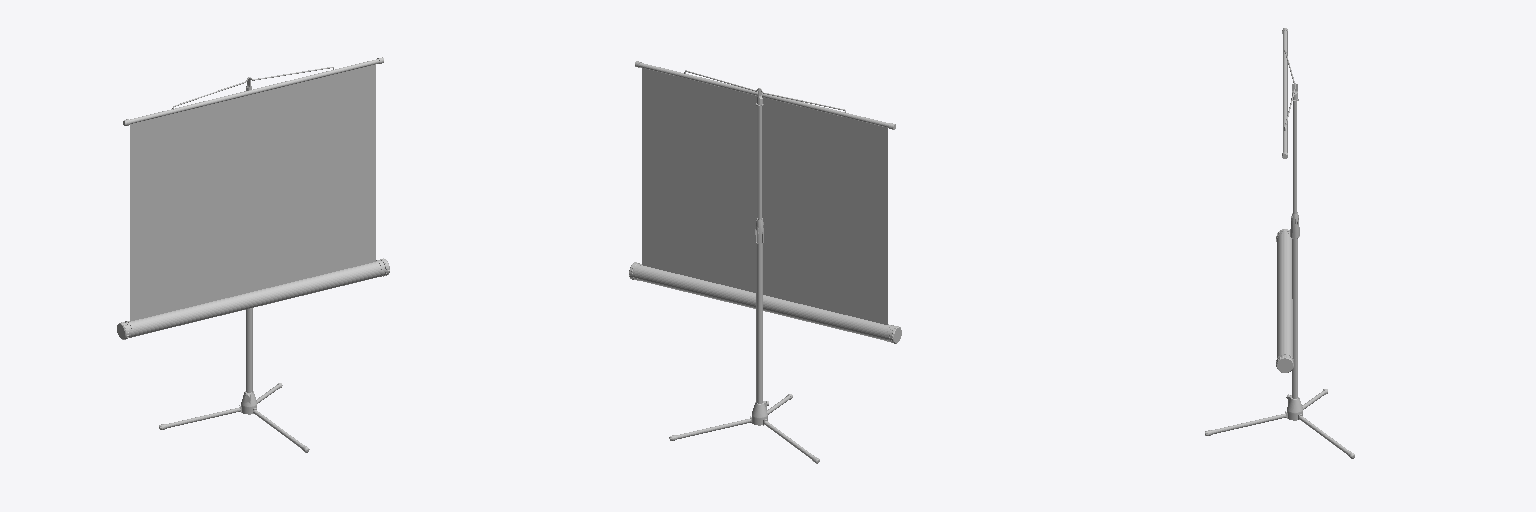
Rendered from Screen.obj.
The picture shows the model from 3 angles: view 1: azimuth 30°, elevation 25°; view 2: azimuth 150°, elevation 25°; view 3: azimuth 270°, elevation 25°; orthographic projection.
Visible parts, largest first — view 1: AI47_008_obj_1585; view 2: AI47_008_obj_1585; view 3: AI47_008_obj_1585.
Part boxes in pixels (x1,y1,x2,y2): AI47_008_obj_1585: (117,57,389,452); AI47_008_obj_1585: (629,61,901,463); AI47_008_obj_1585: (1205,28,1354,458).
Size of the model in its own units: 129 by 161 by 63.63.